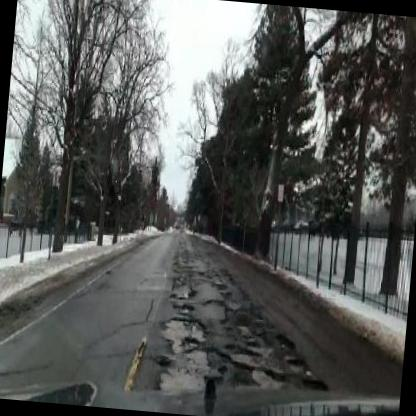pothole: (301, 372, 328, 395), (274, 330, 296, 354), (223, 341, 256, 355), (202, 376, 218, 397), (172, 300, 194, 314), (182, 334, 199, 350)
